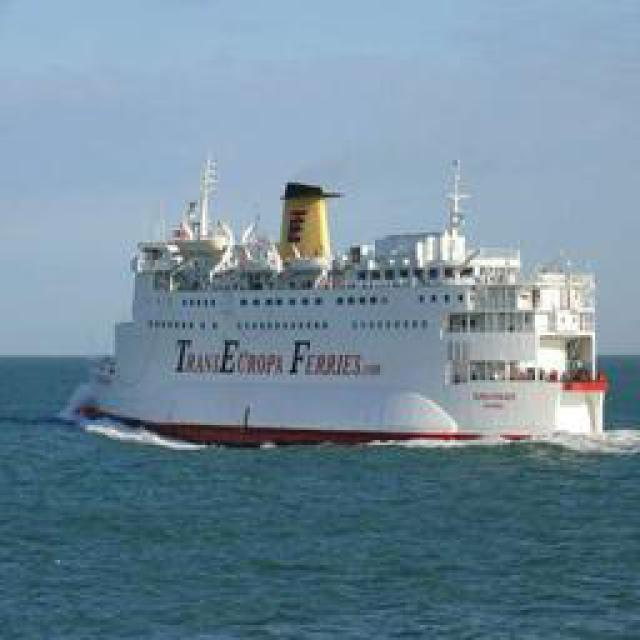Ship: (78, 149, 613, 449)
